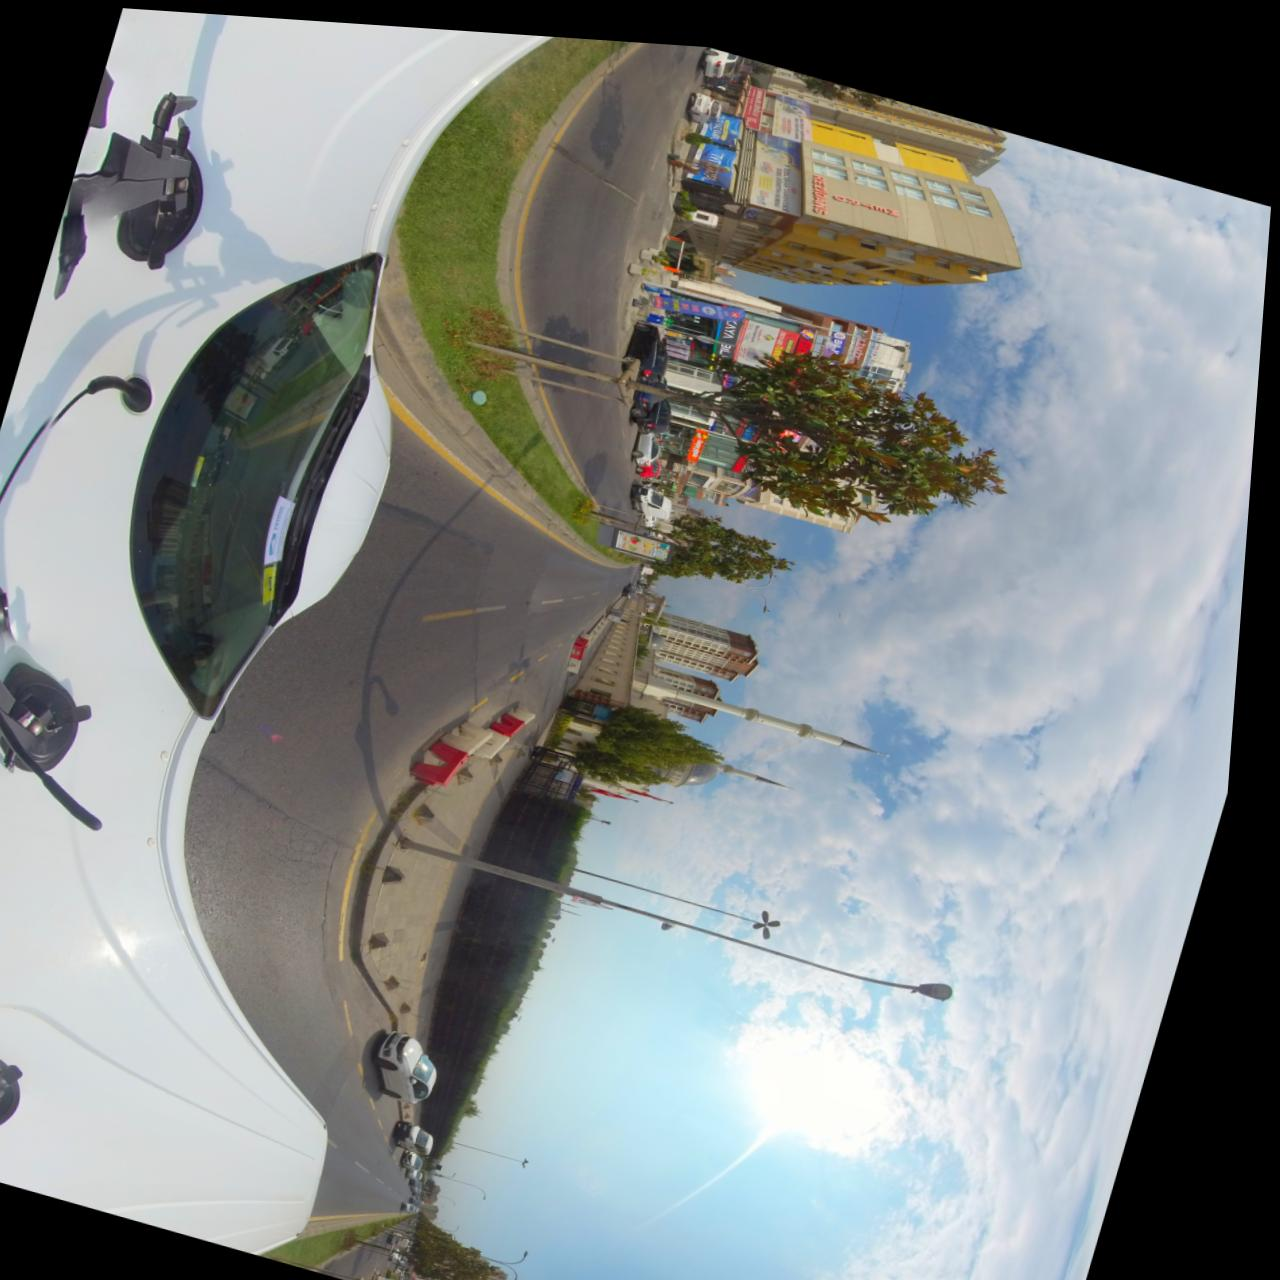SignStore: (743, 75, 764, 118), (692, 421, 713, 452), (721, 311, 744, 332), (852, 325, 871, 349), (869, 329, 885, 355)
